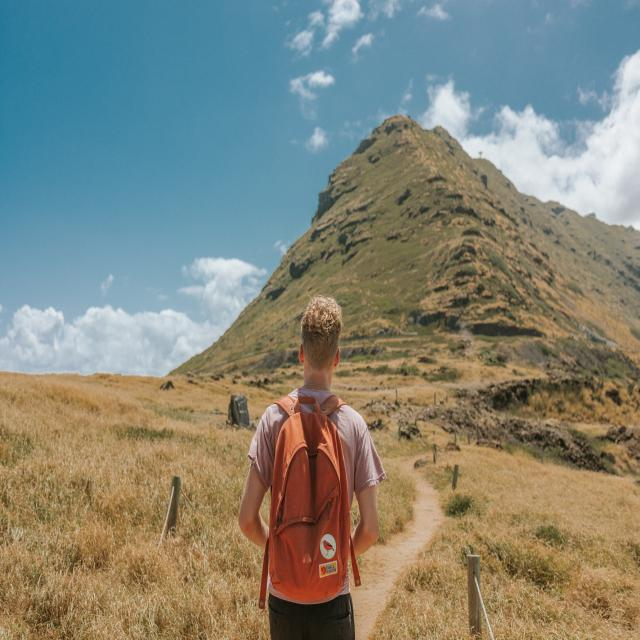backpack: (268, 394, 351, 604)
